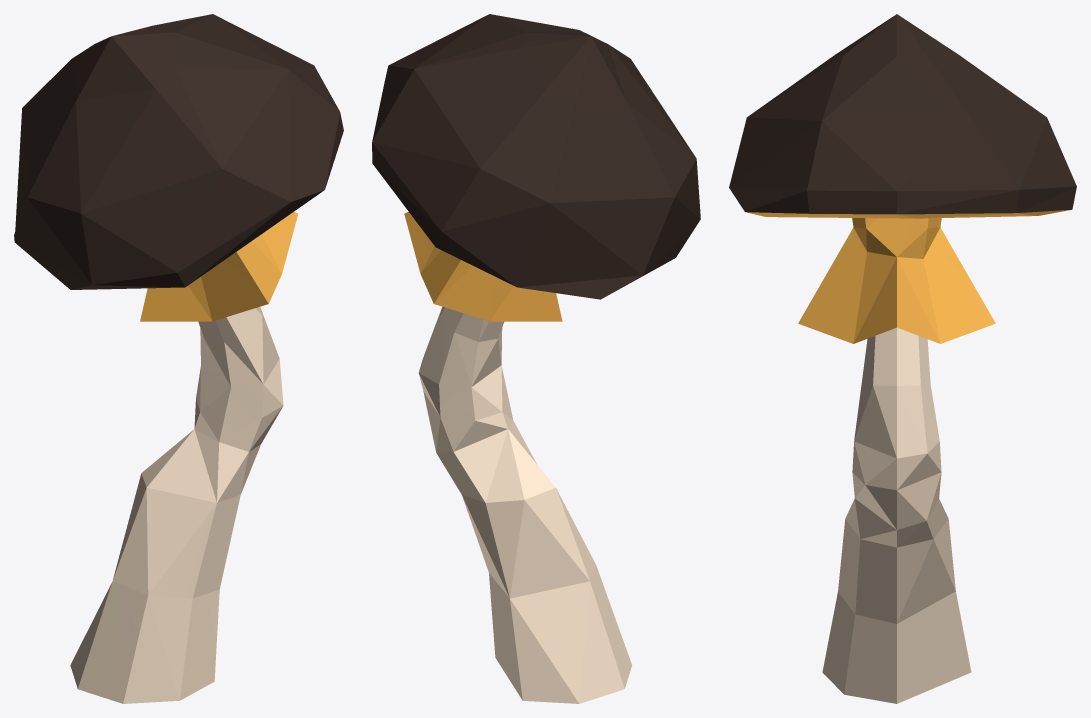
File: DefMashroom3.fbx
The picture shows the model from 3 angles, left to right: view 1: azimuth 30°, elevation 25°; view 2: azimuth 150°, elevation 25°; view 3: azimuth 270°, elevation 25°; orthographic projection.
Parts seen in each view (by area): view 1: DefMashroom3; view 2: DefMashroom3; view 3: DefMashroom3.
Part boxes in pixels (x1,y1,x2,y2): DefMashroom3: (14,14,343,703); DefMashroom3: (372,14,700,703); DefMashroom3: (729,14,1076,703).
Bounding box in the file's own units: 35.54 × 75.21 × 36.87.
